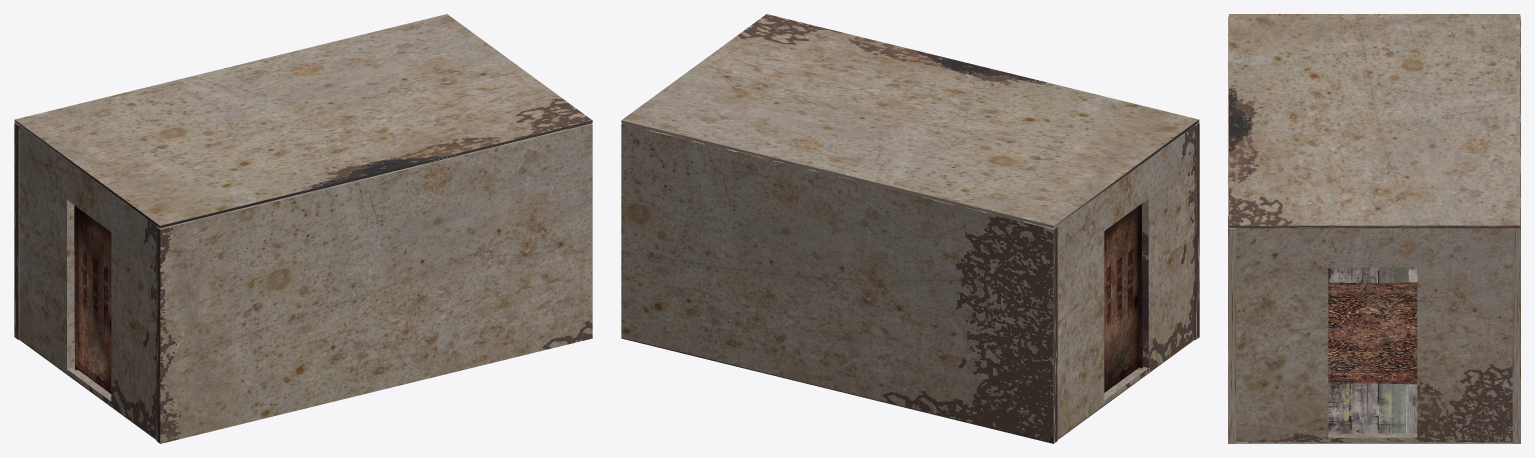
Rendered from room.obj.
3 renders of one model, left to right at view 1: azimuth 30°, elevation 25°; view 2: azimuth 150°, elevation 25°; view 3: azimuth 270°, elevation 25°, orthographic.
Parts seen in each view (by area): view 1: polySurface644; view 2: polySurface644; view 3: polySurface644.
Boxes of the visible parts, bbox=[...] form: polySurface644: bbox=[14, 14, 592, 443]; polySurface644: bbox=[621, 14, 1199, 443]; polySurface644: bbox=[1228, 14, 1520, 443].
Size of the model in its own units: 8.22 by 3.96 by 4.81.
Materials: 7 (7 with a texture image).
